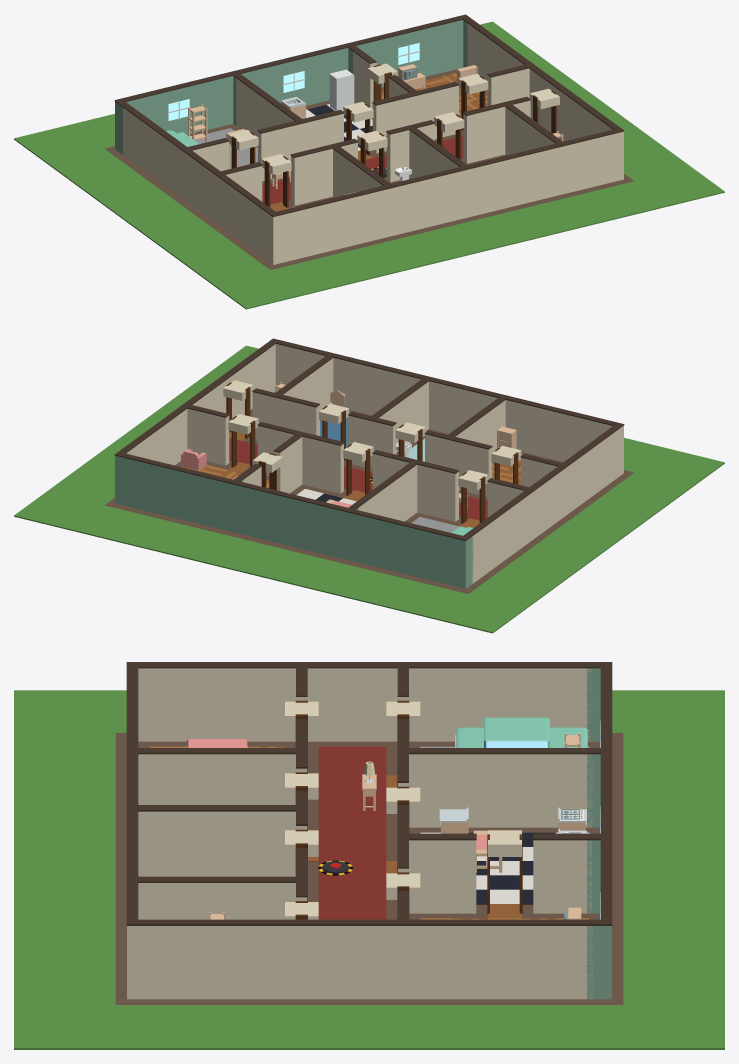
File: casa.glb
The picture shows the model from 3 angles, top to bottom: view 1: azimuth 30°, elevation 25°; view 2: azimuth 150°, elevation 25°; view 3: azimuth 270°, elevation 25°; orthographic projection. The views are drawn at different scales.
Parts seen in each view (by area): view 1: casa; view 2: casa; view 3: casa.
Part boxes in pixels (x1,y1,x2,y2): casa: [14, 14, 724, 309]; casa: [14, 338, 724, 633]; casa: [14, 662, 724, 1049].
Size of the model in its own units: 25 by 2.53 by 21.
